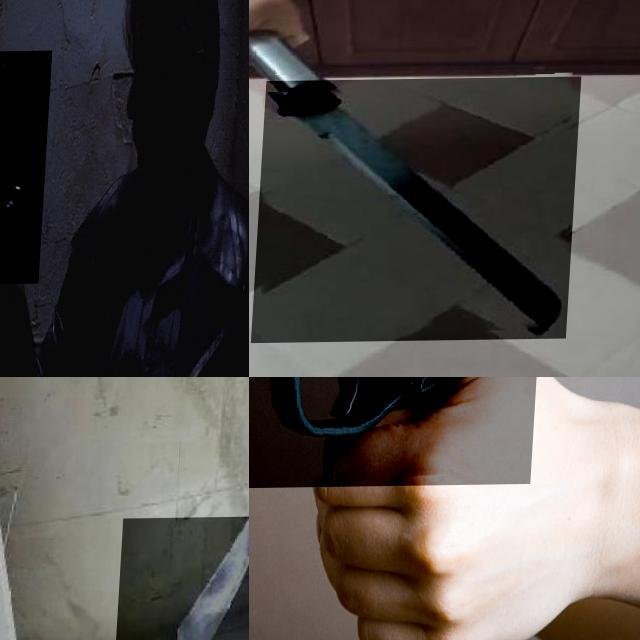-: (258, 79, 584, 344), (119, 518, 249, 640)
gun-knife-thesis - v11 Yolov5 augmented: (249, 377, 552, 564), (0, 51, 54, 285)
